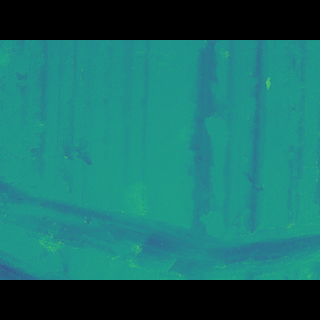Loch: (0, 164, 320, 251)
